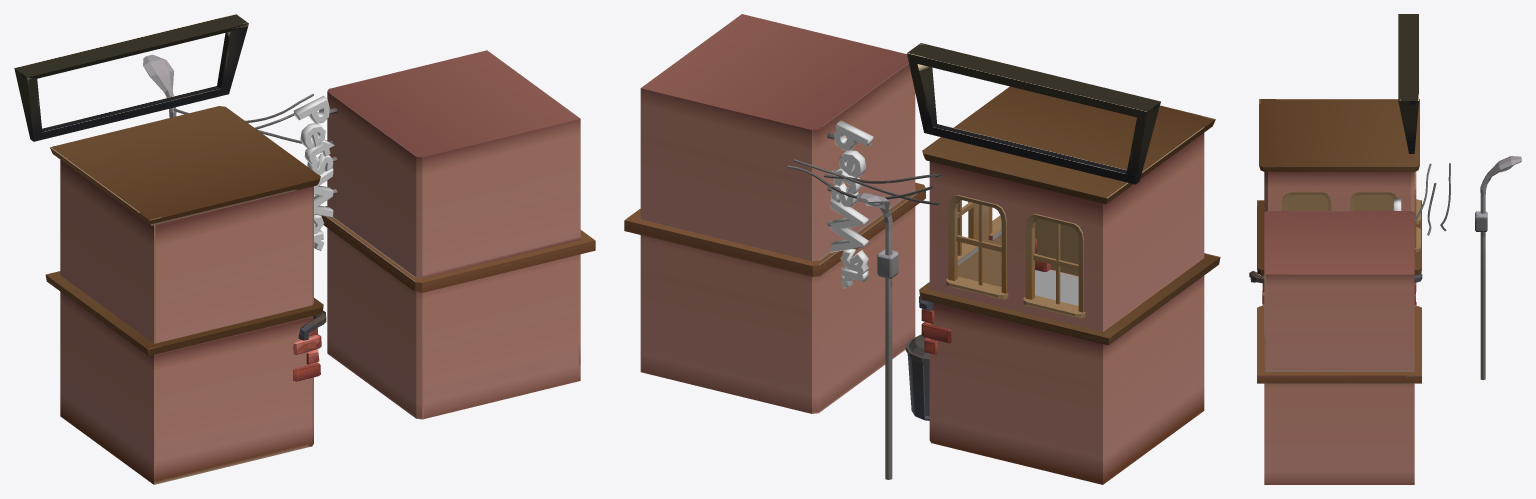
File: START.fbx
3 renders of one model, left to right at view 1: azimuth 30°, elevation 25°; view 2: azimuth 150°, elevation 25°; view 3: azimuth 270°, elevation 25°, orthographic. The views are drawn at different scales.
Visible parts, largest first — view 1: 圓柱體, 文字.001, 文字; view 2: 圓柱體, 文字, 文字.001; view 3: 圓柱體.
Boxes of the visible parts, x1=… form: 圓柱體: x1=14, y1=14, x2=595, y2=484; 文字.001: x1=293, y1=95, x2=334, y2=175; 文字: x1=314, y1=168, x2=333, y2=250; 圓柱體: x1=624, y1=14, x2=1220, y2=484; 文字: x1=830, y1=199, x2=868, y2=288; 文字.001: x1=828, y1=120, x2=873, y2=207; 圓柱體: x1=1249, y1=14, x2=1521, y2=484.
Bounding box in the file's own units: 592 × 422 × 362.
1 material, 1 textured.
